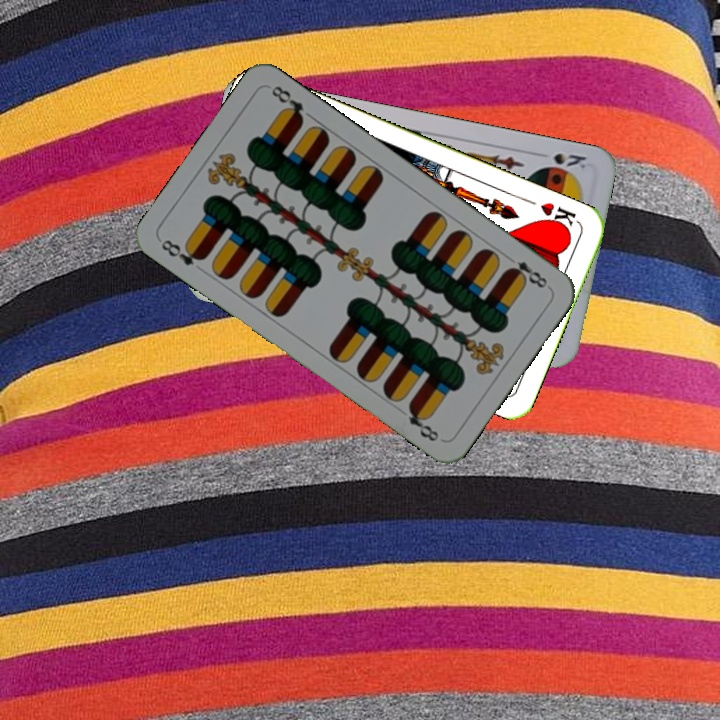E8: (503, 251, 552, 291), (157, 235, 209, 269)
HK: (536, 198, 581, 234)
SK: (549, 149, 589, 172)
